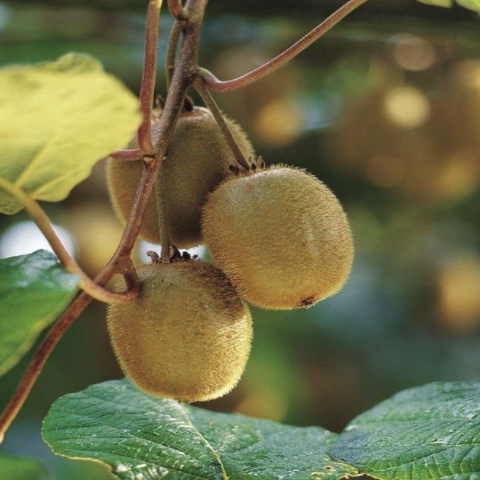kiwi: (94, 245, 276, 405), (108, 100, 269, 260), (197, 161, 366, 311)
